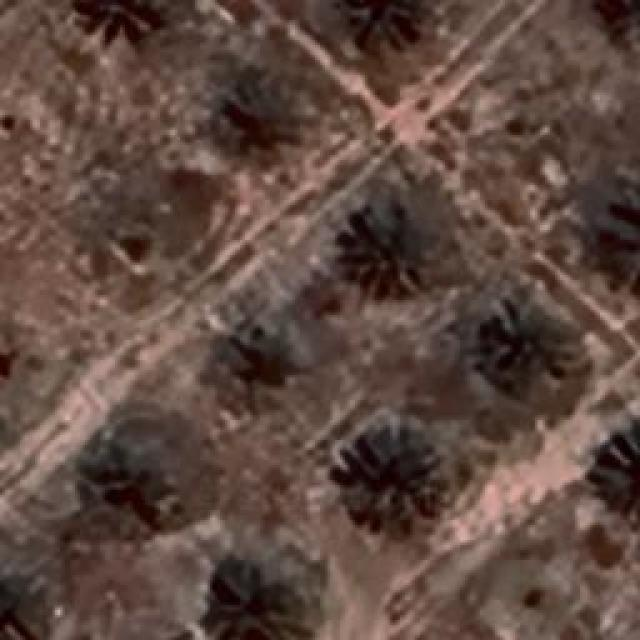PalmTree: (23, 74, 614, 603), (482, 298, 580, 390), (345, 200, 435, 295), (348, 430, 442, 520), (208, 560, 310, 638), (228, 320, 312, 398), (226, 74, 299, 158), (334, 0, 436, 58), (600, 182, 640, 288), (73, 0, 167, 40), (594, 0, 640, 49)
